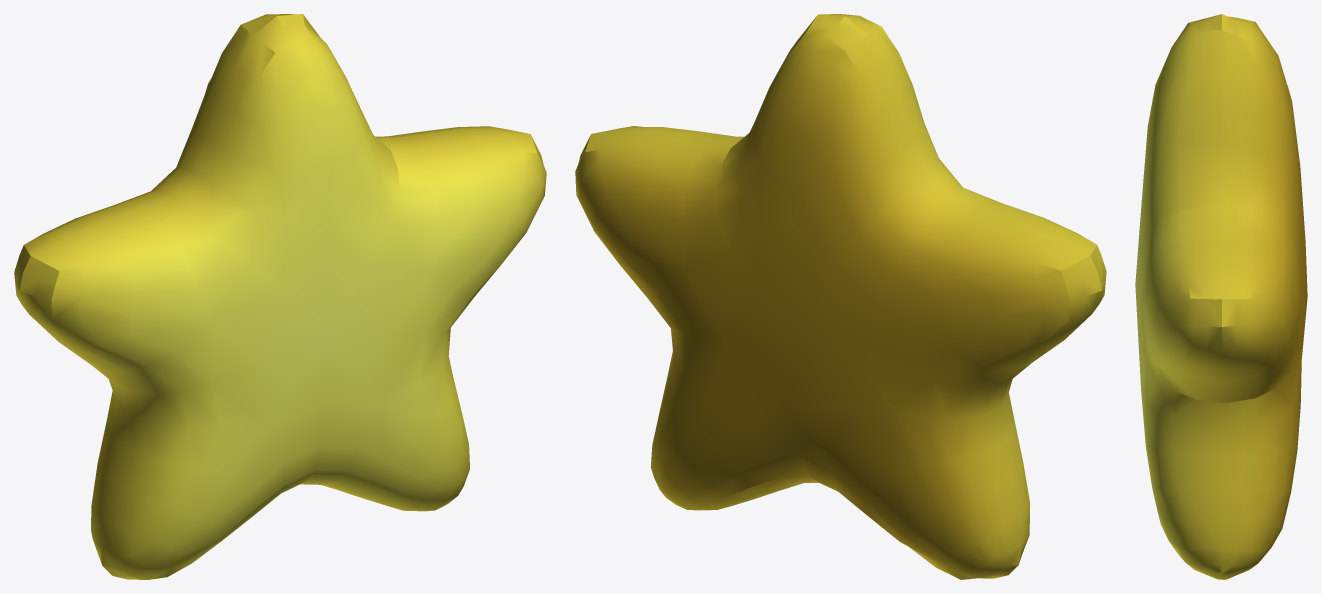
File: SM_Star.fbx
3 views of the same model, side by side, from view 1: azimuth 30°, elevation 25°; view 2: azimuth 150°, elevation 25°; view 3: azimuth 270°, elevation 25° (orthographic). The views are drawn at different scales.
Parts seen in each view (by area): view 1: SM_Star; view 2: SM_Star; view 3: SM_Star.
Boxes of the visible parts, x1,y1,x2,y2 form: SM_Star: [14, 14, 546, 579]; SM_Star: [575, 14, 1106, 579]; SM_Star: [1135, 14, 1307, 579].
Size of the model in its own units: 77.5 by 74.81 by 23.57.
